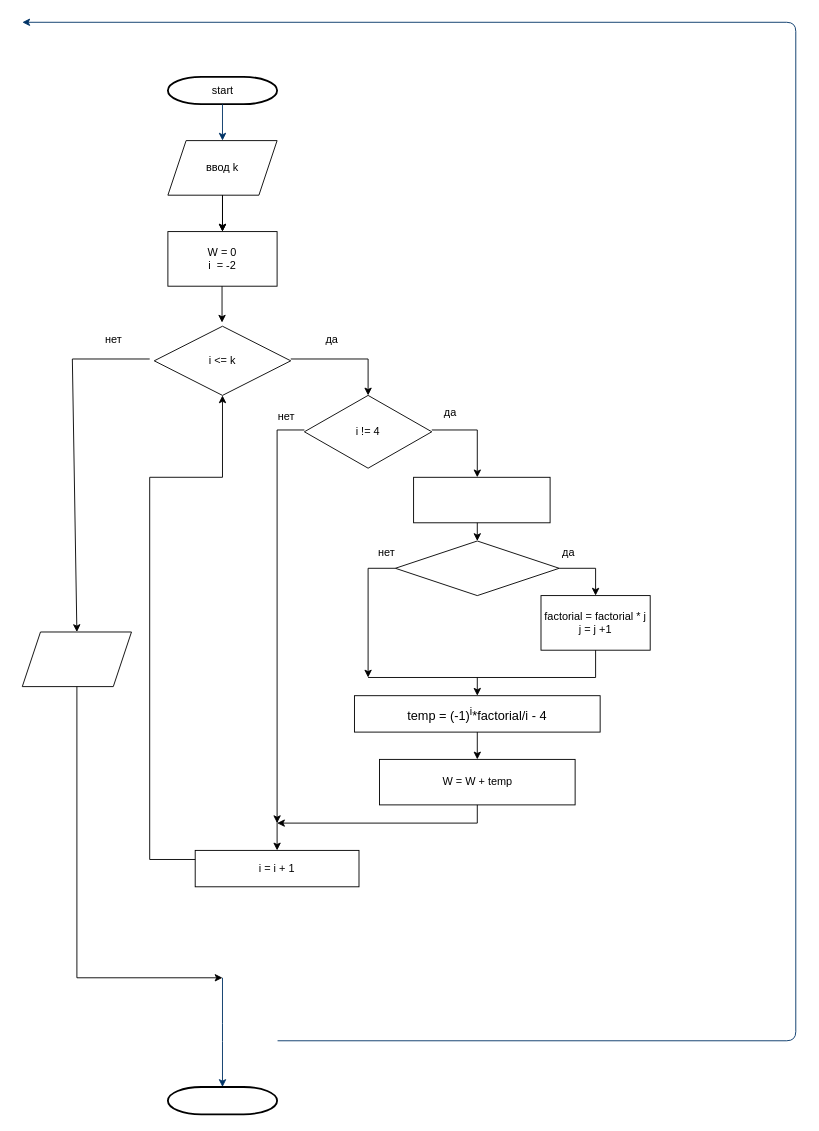
Image size: 819x1131. Some labels were removed from this diagram. The centre of each missing label's shape, as x and y in pixels:
"end" belongs at pixel 222 1100.
"factorial = 1 j = 1" belongs at pixel 481 499.
"j <= i + 3" belongs at pixel 476 568.
"вывод w" belongs at pixel 76 659.
